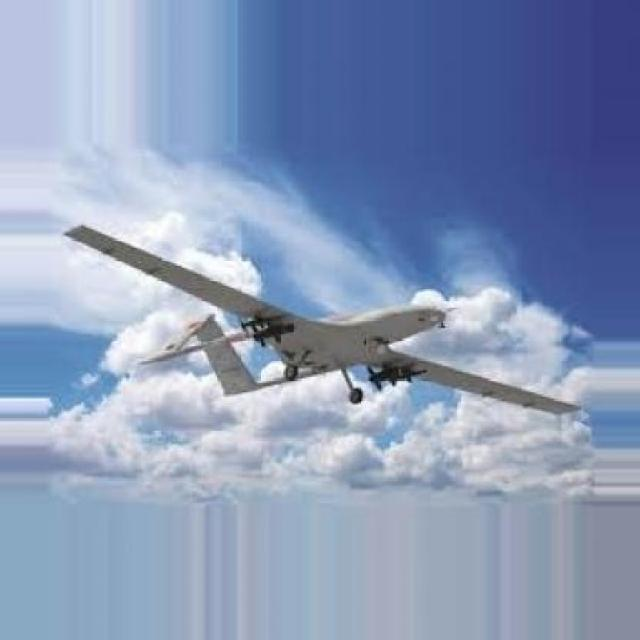iha: (35, 212, 636, 431)
